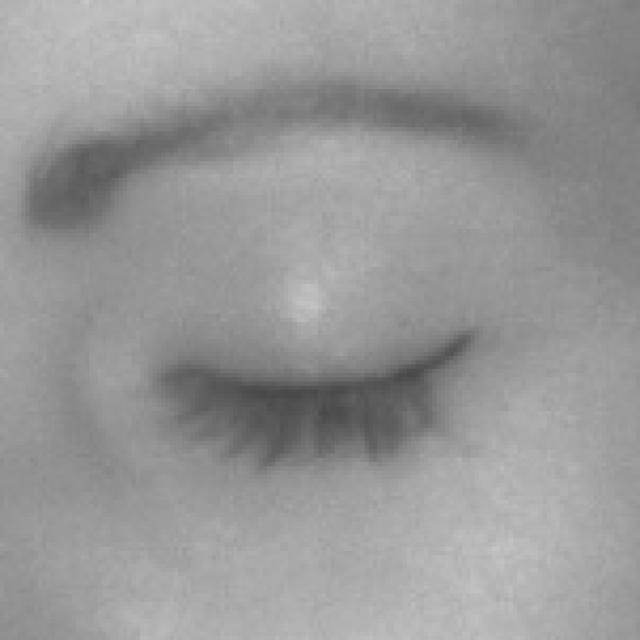close: (0, 36, 598, 538)
